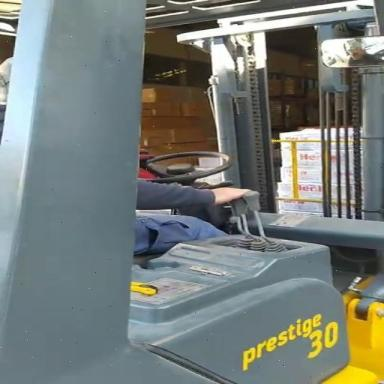forklift: (41, 6, 351, 384)
